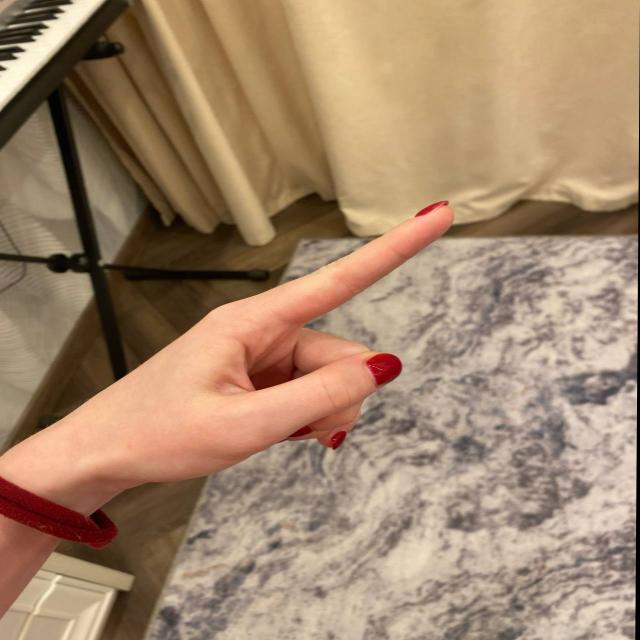z: (86, 195, 488, 505)
